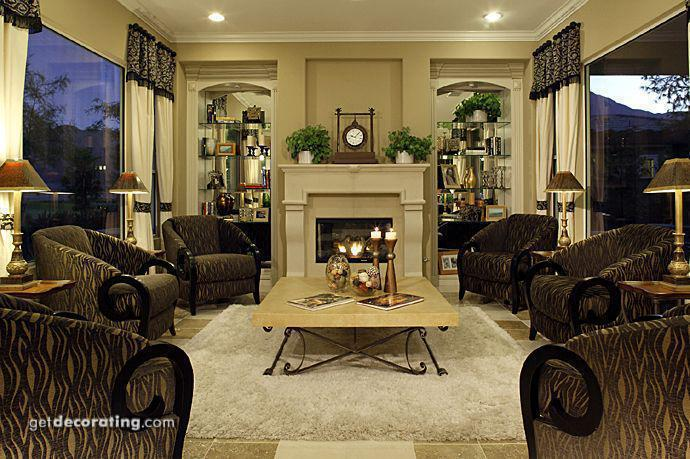Ventana: (7, 14, 126, 273), (585, 13, 688, 237)
